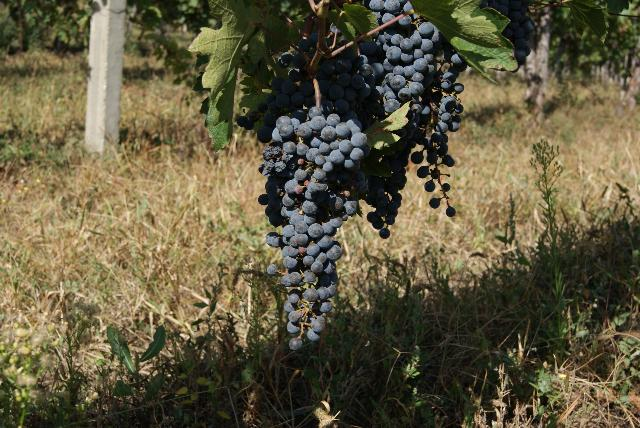grapes: (258, 111, 369, 340), (384, 20, 466, 216)
